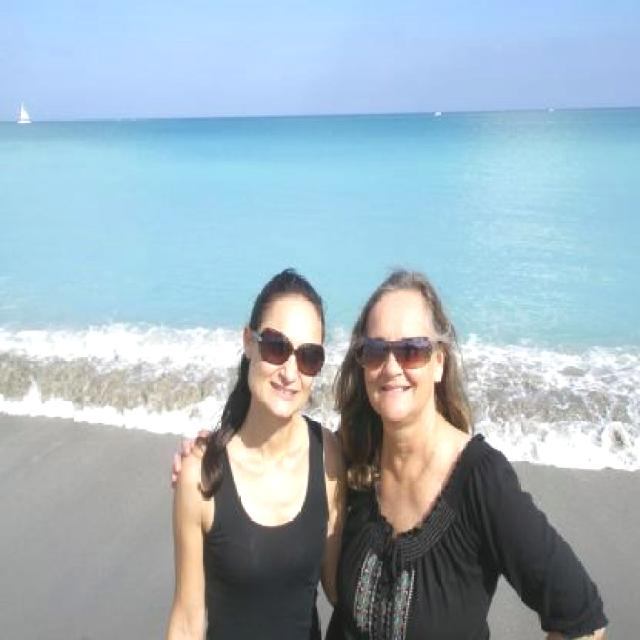face_nomask: (353, 336, 439, 406), (254, 328, 324, 407)
glasses: (250, 322, 328, 378), (353, 332, 436, 374)
hand_noglove: (163, 432, 215, 488)
head_nohelmet: (356, 267, 444, 313), (250, 267, 328, 311)
person: (328, 258, 597, 640), (170, 254, 341, 640)
